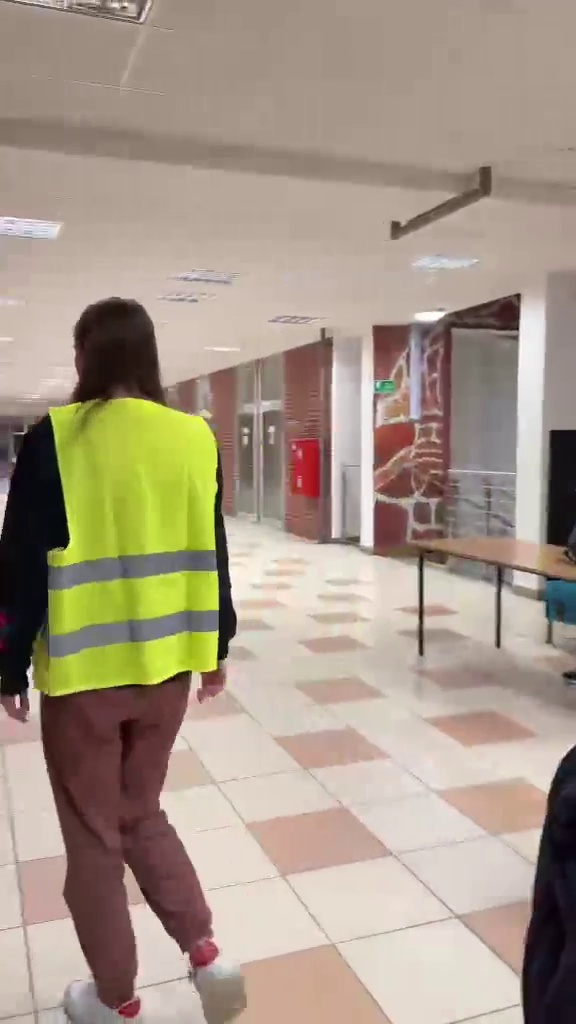vest: (8, 292, 256, 1005)
